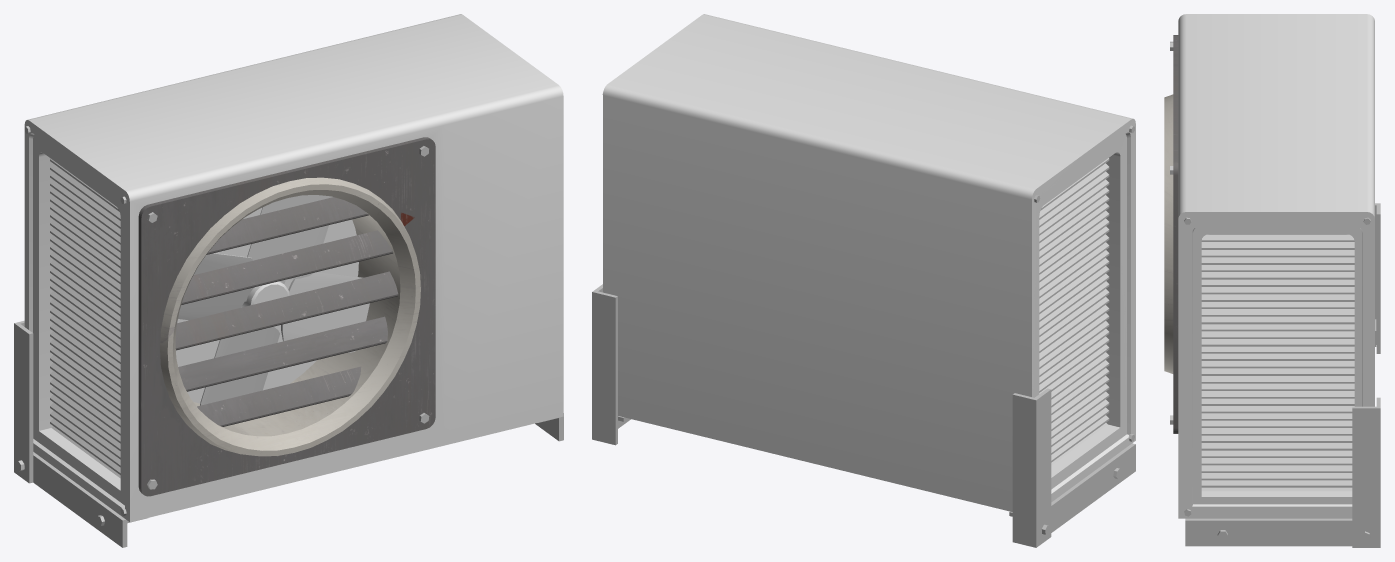
The model's file is KB3D_CBP_ACunit_T.fbx.
3 renders of one model, left to right at view 1: azimuth 30°, elevation 25°; view 2: azimuth 150°, elevation 25°; view 3: azimuth 270°, elevation 25°, orthographic. The views are drawn at different scales.
Visible parts, largest first — view 1: KB3D_CBP_ACunit_T_Main; view 2: KB3D_CBP_ACunit_T_Main; view 3: KB3D_CBP_ACunit_T_Main.
Part boxes in pixels (<box>): KB3D_CBP_ACunit_T_Main: <box>14,14,563,547</box>; KB3D_CBP_ACunit_T_Main: <box>592,14,1135,547</box>; KB3D_CBP_ACunit_T_Main: <box>1164,14,1380,547</box>.
Size of the model in its own units: 213 by 158 by 93.44.
